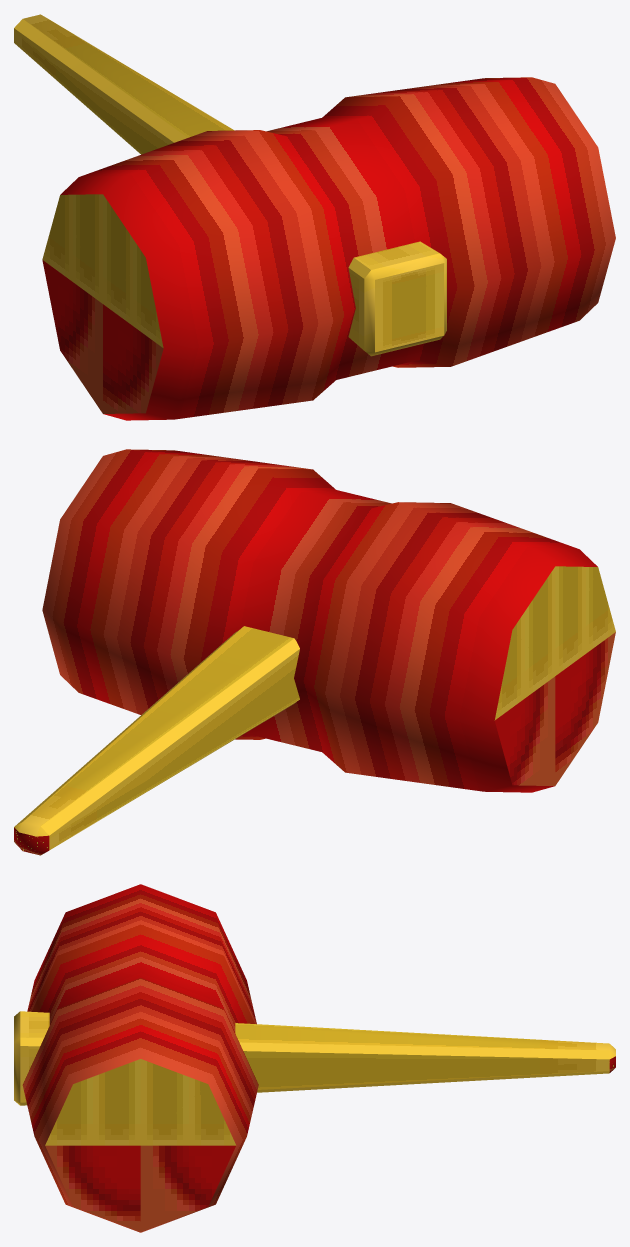
The model's file is hammer.obj.
3 views of the same model, one above another, from view 1: azimuth 30°, elevation 25°; view 2: azimuth 150°, elevation 25°; view 3: azimuth 270°, elevation 25° (orthographic). The views are drawn at different scales.
Parts seen in each view (by area): view 1: vsn_mesh_0__mesh_0_.002; view 2: vsn_mesh_0__mesh_0_.002; view 3: vsn_mesh_0__mesh_0_.002.
Boxes of the visible parts, x1=… form: vsn_mesh_0__mesh_0_.002: x1=14, y1=14, x2=615, y2=420; vsn_mesh_0__mesh_0_.002: x1=14, y1=449, x2=615, y2=855; vsn_mesh_0__mesh_0_.002: x1=14, y1=884, x2=615, y2=1232.
Size of the model in its own units: 18.2 by 10.43 by 26.6.
1 material, 1 textured.
